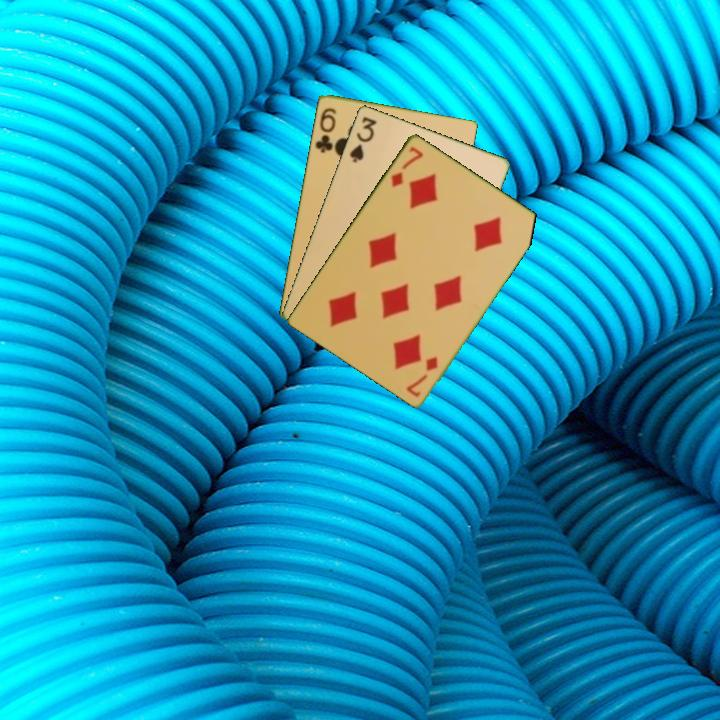3s: (346, 112, 379, 165)
6c: (312, 104, 339, 155)
7d: (387, 142, 426, 190), (403, 352, 441, 400)
